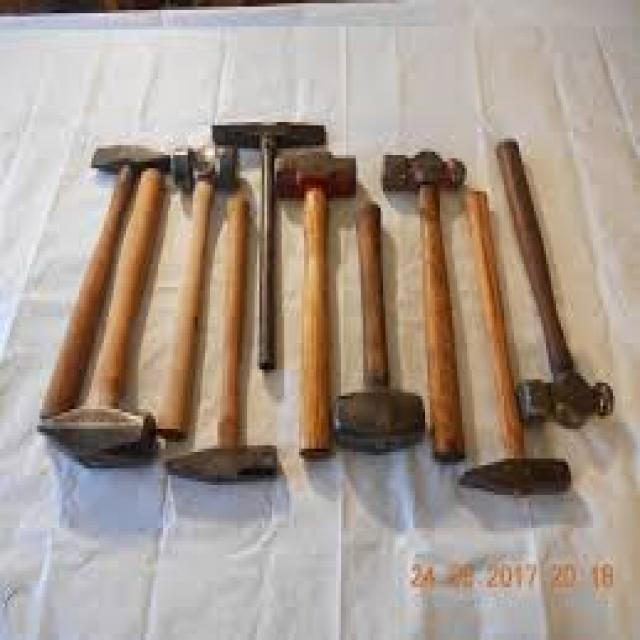hammer: (31, 162, 172, 476), (491, 132, 626, 436), (30, 137, 170, 424), (457, 186, 576, 506), (163, 193, 282, 503), (378, 140, 477, 473), (205, 117, 331, 371), (269, 145, 366, 465), (328, 196, 432, 477), (153, 150, 244, 441)
